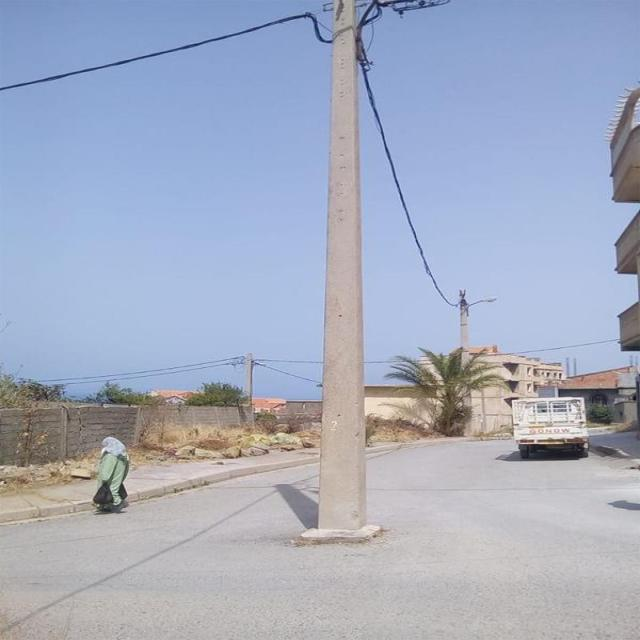Electric pole: (297, 0, 381, 545)
